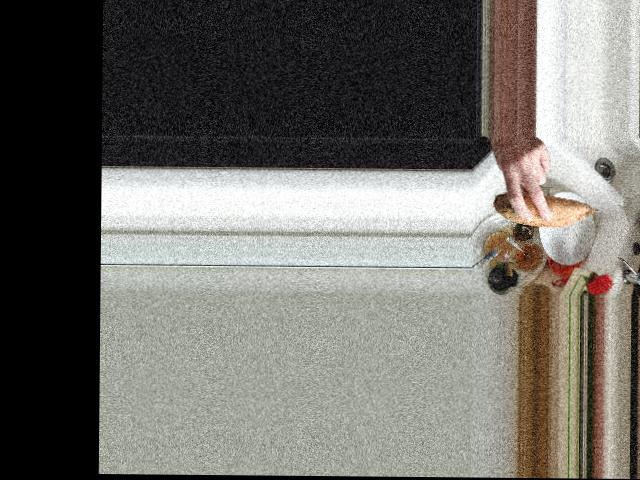sweet_potato: (489, 187, 602, 226)
